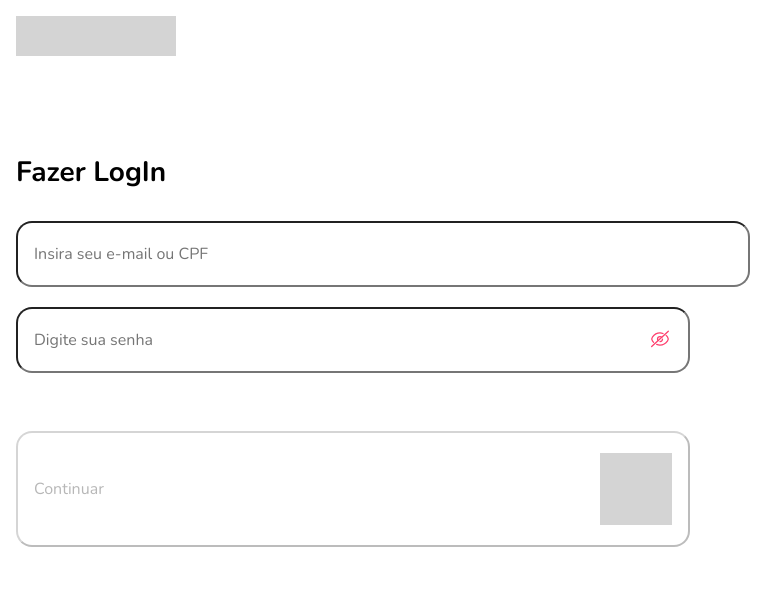
Test case: Login Component › exibe mensagem de erro ao inserir CPF inválido
Type "12345678900" into the field with placeholder "Insira seu e-mail ou CPF".
click(383, 254); type("12345678900")  # box [16,221,750,287]
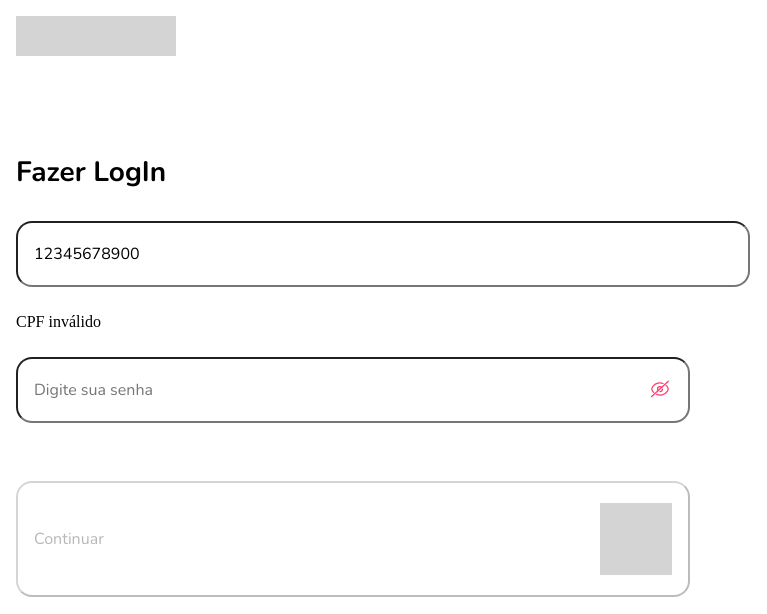
expect the text "CPF inválido" is shown: met, box [16,313,101,331]
